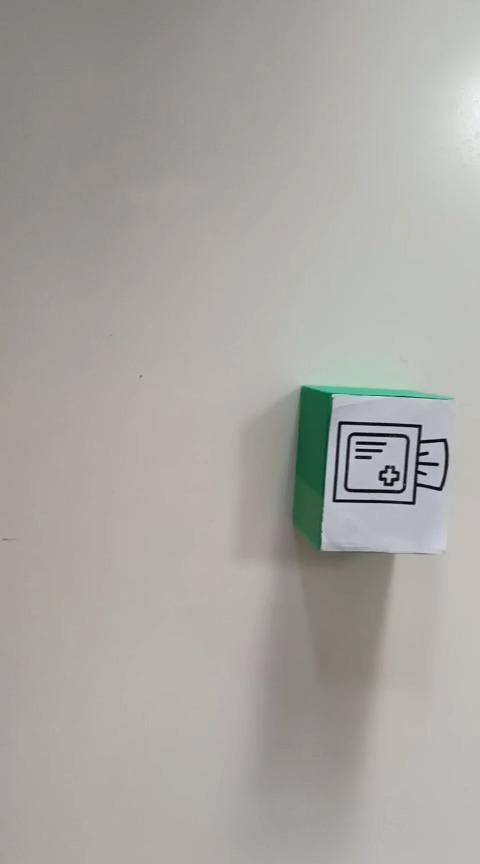Gauze: (291, 383, 455, 555)
